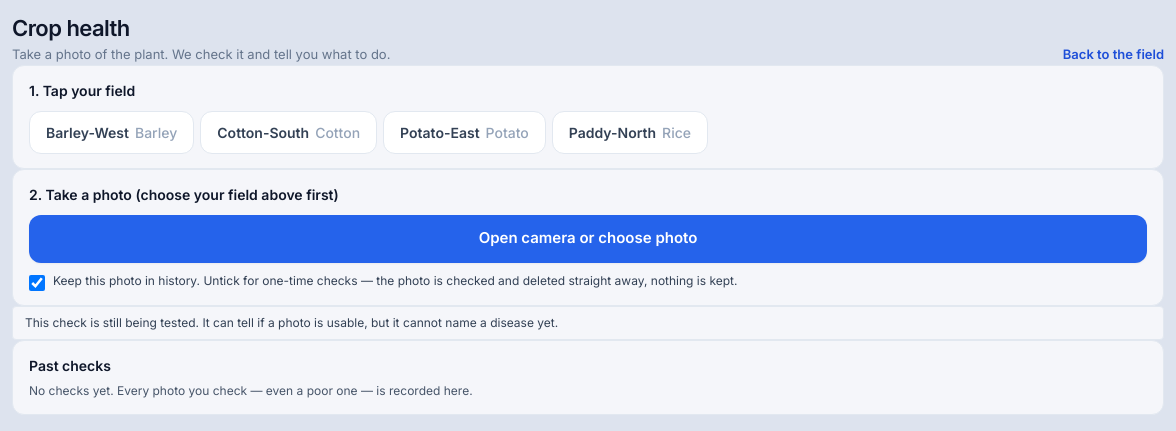
Test: Field view › keeps the crop photo check page a straight capture flow
Expected: the heading "Crop health" is shown, [12,15,130,41]
Expected: the heading "1. Tap your field" is shown, [29,82,135,98]
Step 1. Click the button named "Barley-West Barley" → (112, 132), box [29,110,194,154]
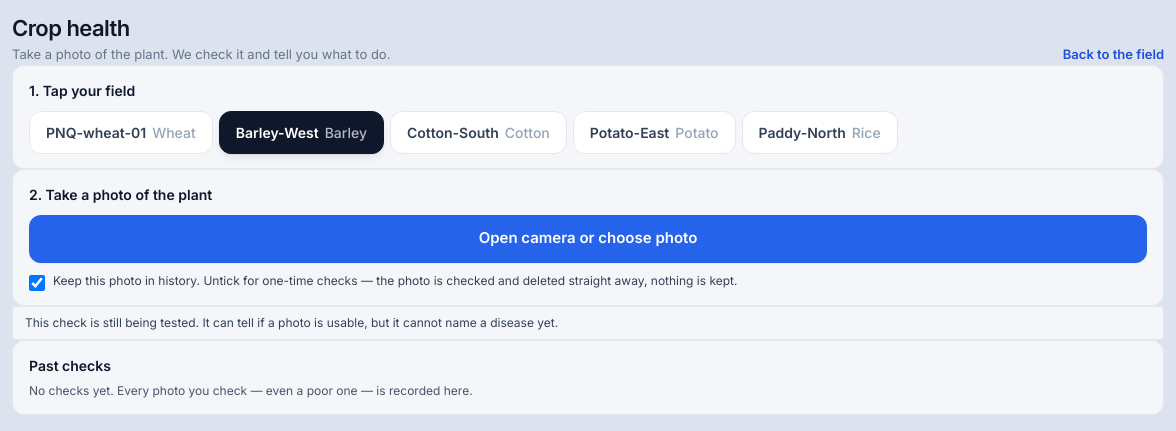
Expected: the button "Open camera or choose photo" is shown, [29,214,1147,262]
Result: the heading "2. Take a photo of the plant" is shown at [29,186,212,202]
